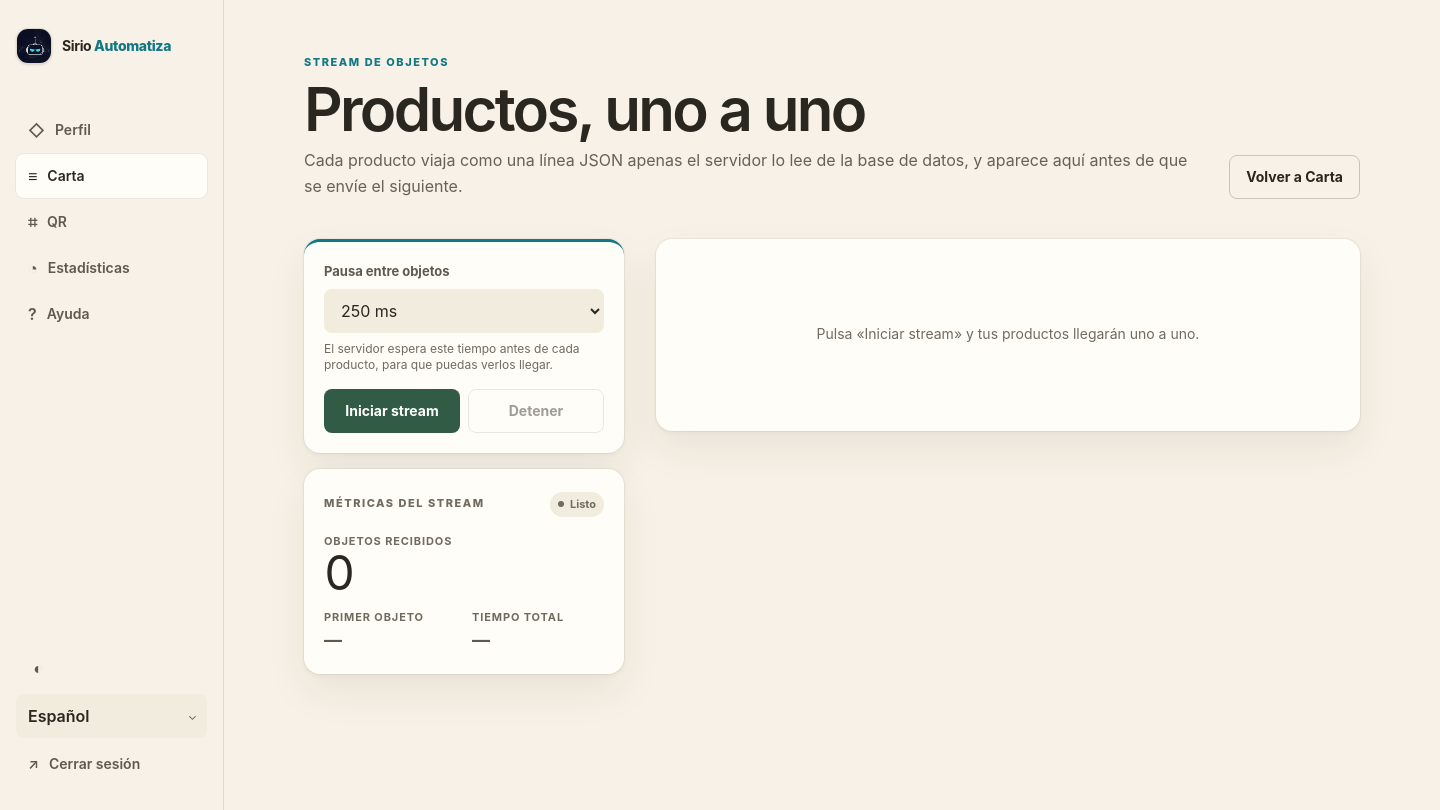
Test: ProductStreamViewer › says so when the stream is cut before the end
Click the button "Iniciar stream" at (392, 411), box [324,389,460,433]
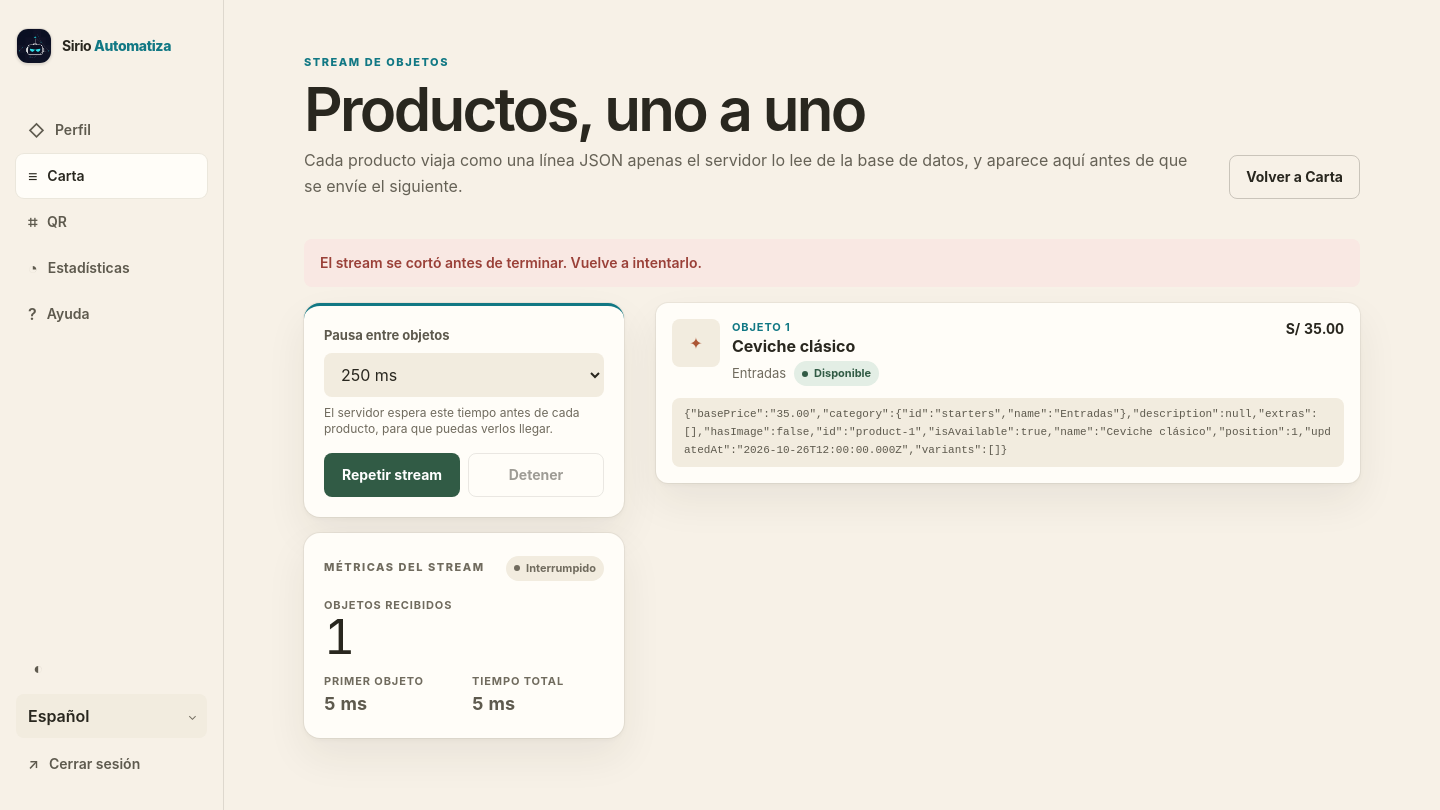
Now the message "El stream se cortó antes de terminar. Vuelve a intentarlo." is shown, box [304,239,1360,287]
Now the message "Interrumpido" is shown, box [506,553,604,581]
